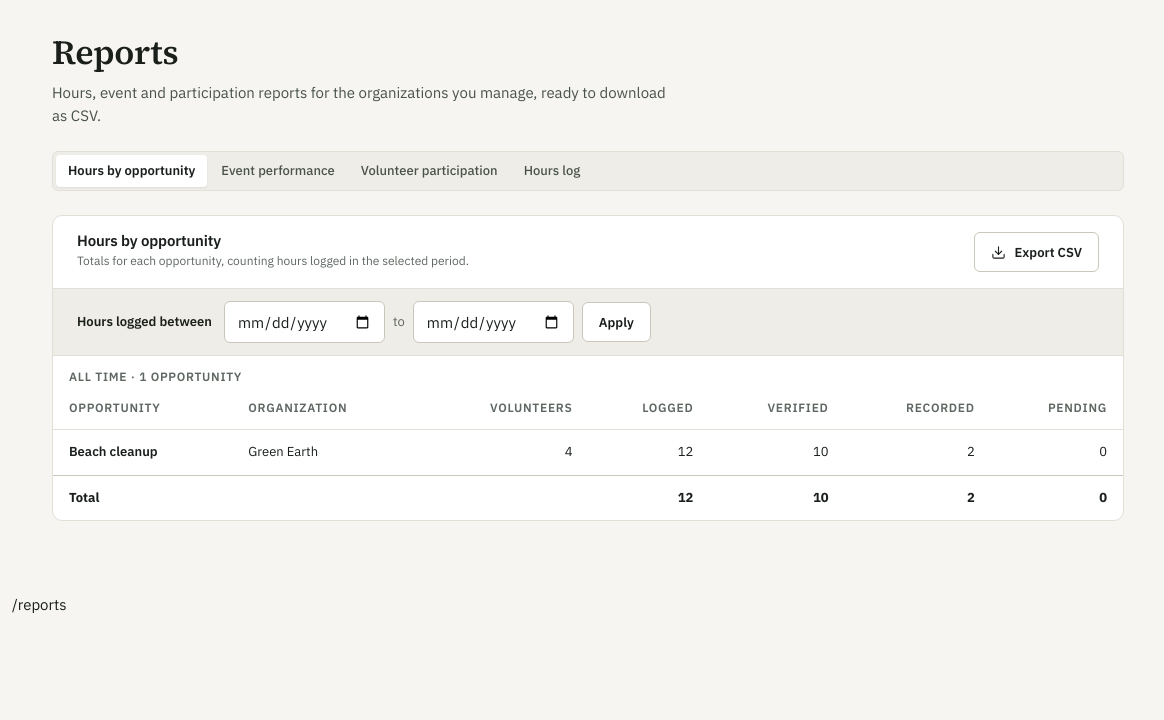
Reports › shows volunteer participation
Expected: the cell "Beach cleanup" is shown, [53,430,232,475]
Click the button "Volunteer participation": (429,171) [349,155,510,187]
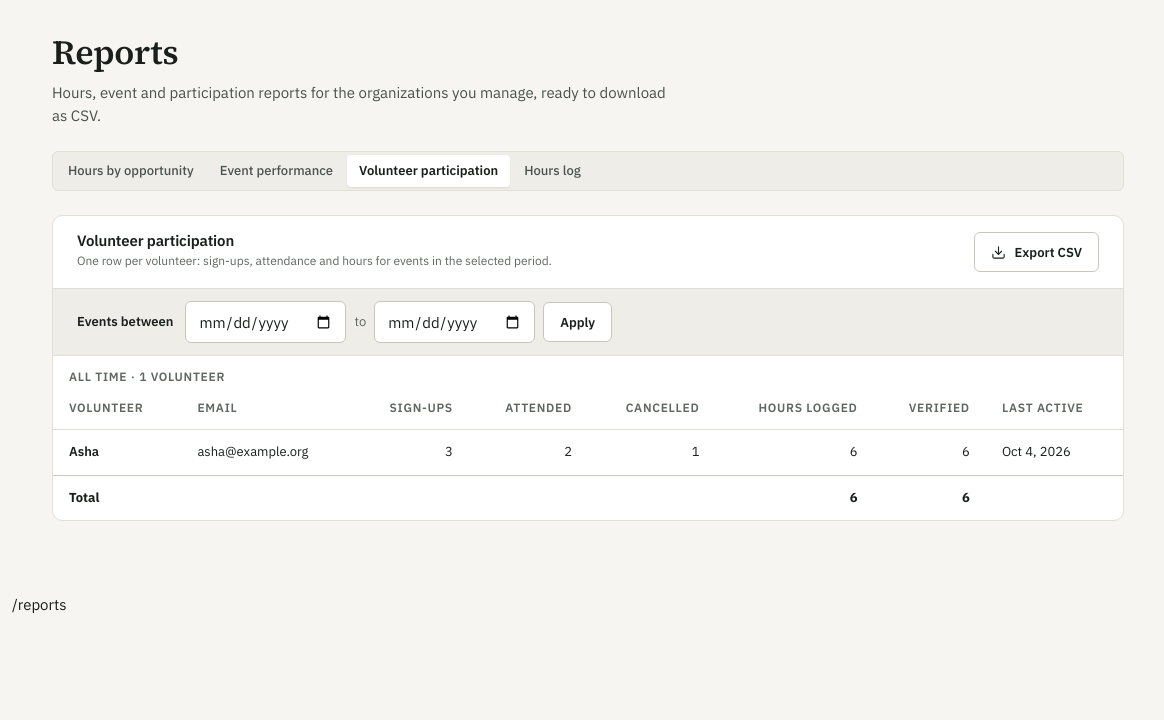
Now the cell "asha@example.org" is shown, box [181,430,354,475]
